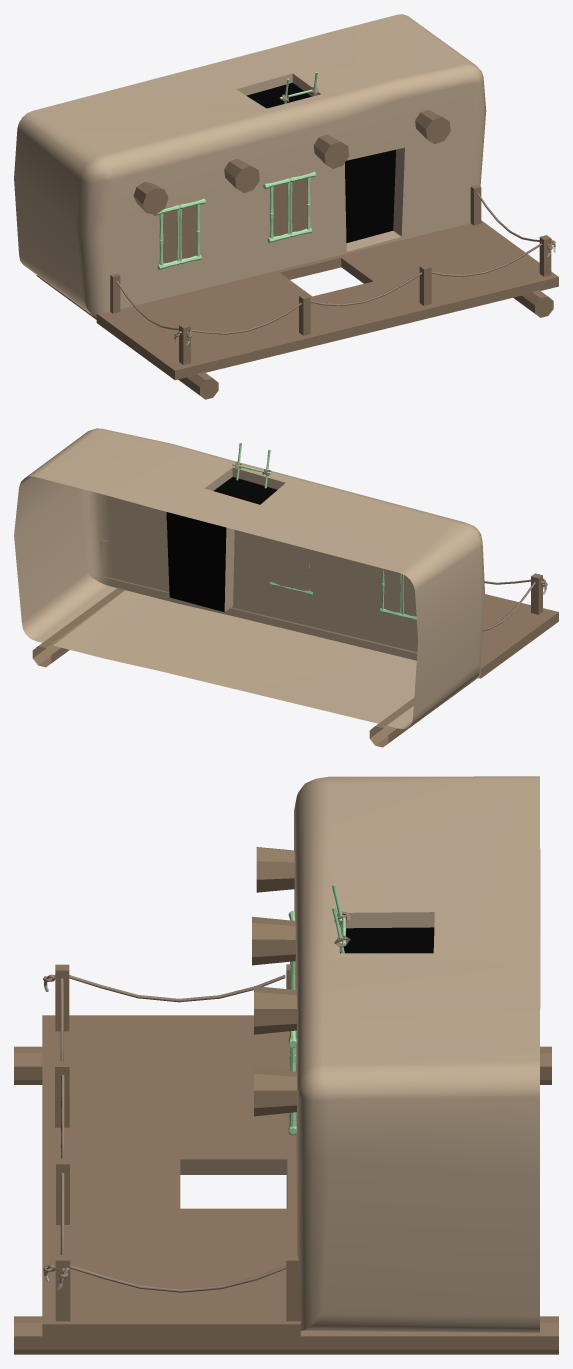
Rendered from pueblo_home_04.fbx.
The picture shows the model from 3 angles, top to bottom: view 1: azimuth 30°, elevation 25°; view 2: azimuth 150°, elevation 25°; view 3: azimuth 270°, elevation 25°; orthographic projection. The views are drawn at different scales.
Parts seen in each view (by area): view 1: pueblo_house_04; view 2: pueblo_house_04; view 3: pueblo_house_04.
Part boxes in pixels (bbox=[...]): pueblo_house_04: bbox=[14, 14, 558, 399]; pueblo_house_04: bbox=[14, 428, 558, 747]; pueblo_house_04: bbox=[14, 776, 558, 1354].
Bounding box in the file's own units: 1224 × 594 × 865.
